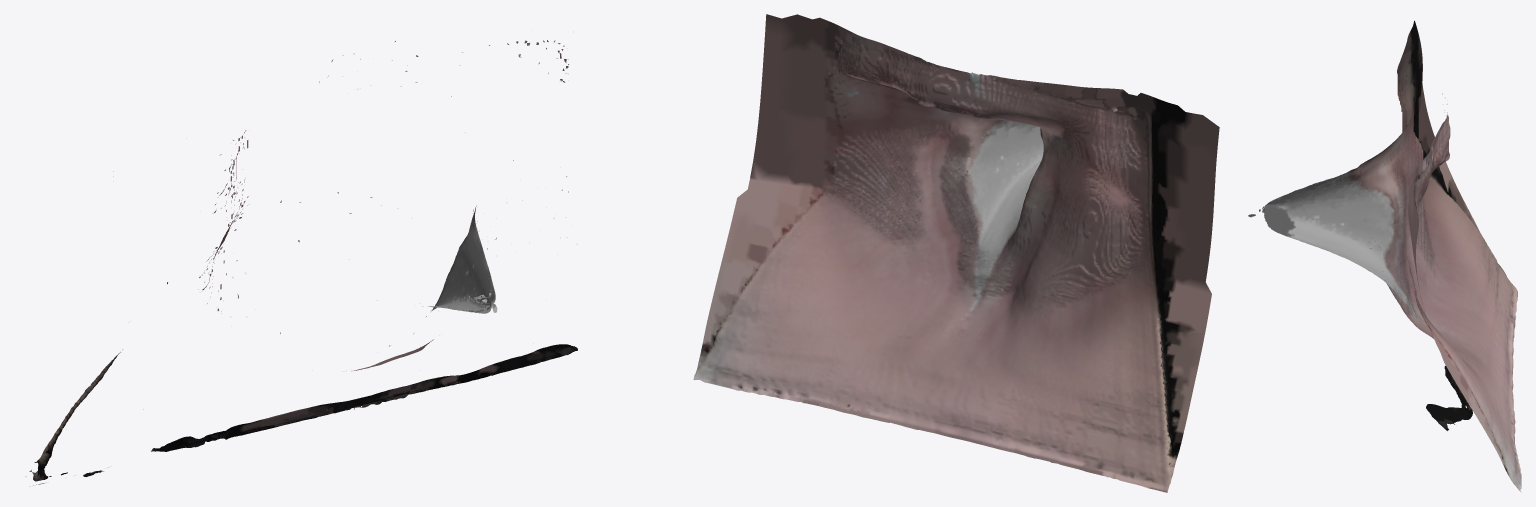
The model's file is vocal (45) - grey.gltf.
The picture shows the model from 3 angles, left to right: view 1: azimuth 30°, elevation 25°; view 2: azimuth 150°, elevation 25°; view 3: azimuth 270°, elevation 25°; orthographic projection. The views are drawn at different scales.
Bounding box in the file's own units: 0.00153 × 0.00103 × 0.000876.
